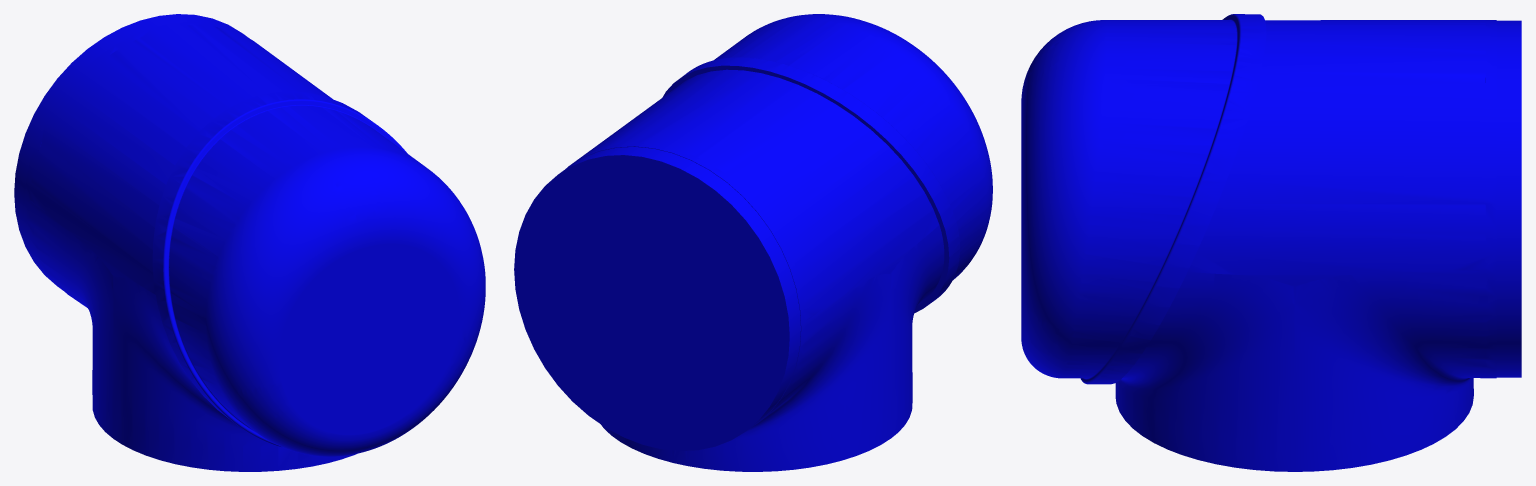
File: wrist2.dae
3 renders of one model, left to right at view 1: azimuth 30°, elevation 25°; view 2: azimuth 150°, elevation 25°; view 3: azimuth 270°, elevation 25°, orthographic. The views are drawn at different scales.
Parts seen in each view (by area): view 1: Actor1, Actor0; view 2: Actor0, Actor1; view 3: Actor0, Actor1.
Part boxes in pixels (x1,y1,x2,y2): Actor1: (152, 91, 485, 456); Actor0: (14, 14, 356, 471); Actor0: (514, 69, 944, 471); Actor1: (662, 14, 992, 313); Actor0: (1115, 20, 1521, 471); Actor1: (1021, 14, 1266, 384).
Bounding box in the file's own units: 0.0775 × 0.1047 × 0.0842.
